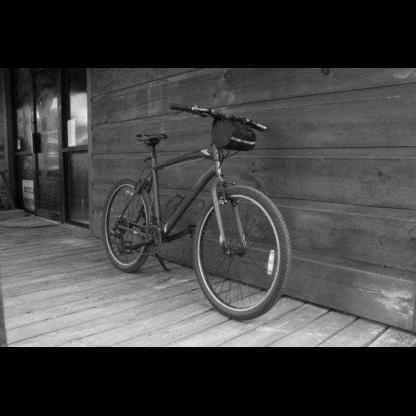Bicycle: (93, 87, 302, 332)
